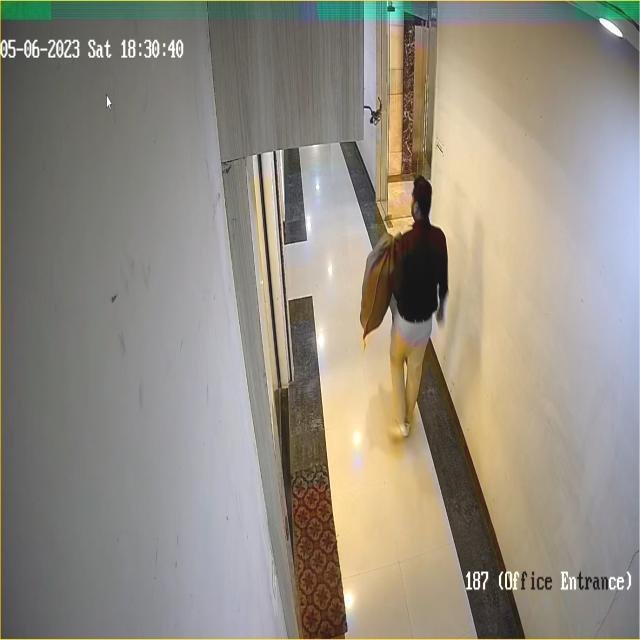gunny_bag: (360, 228, 394, 342)
